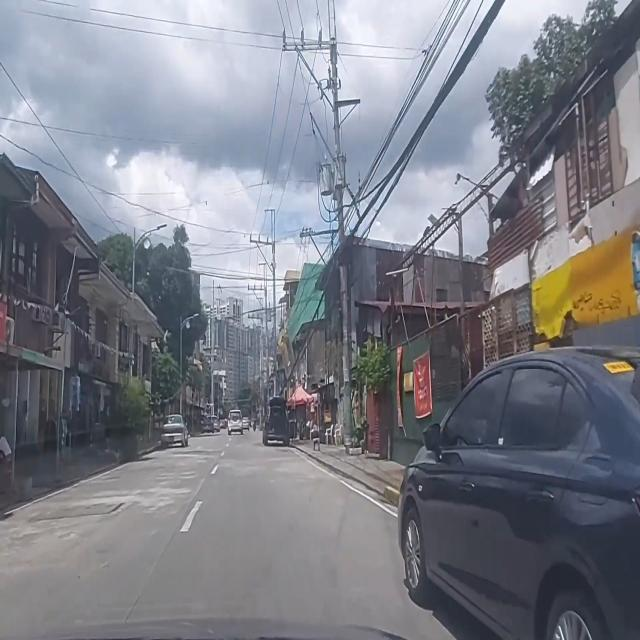car: (398, 348, 640, 640), (262, 396, 290, 444), (160, 415, 188, 448), (227, 410, 243, 434), (200, 417, 214, 433)
motorcycle: (252, 414, 258, 432)
